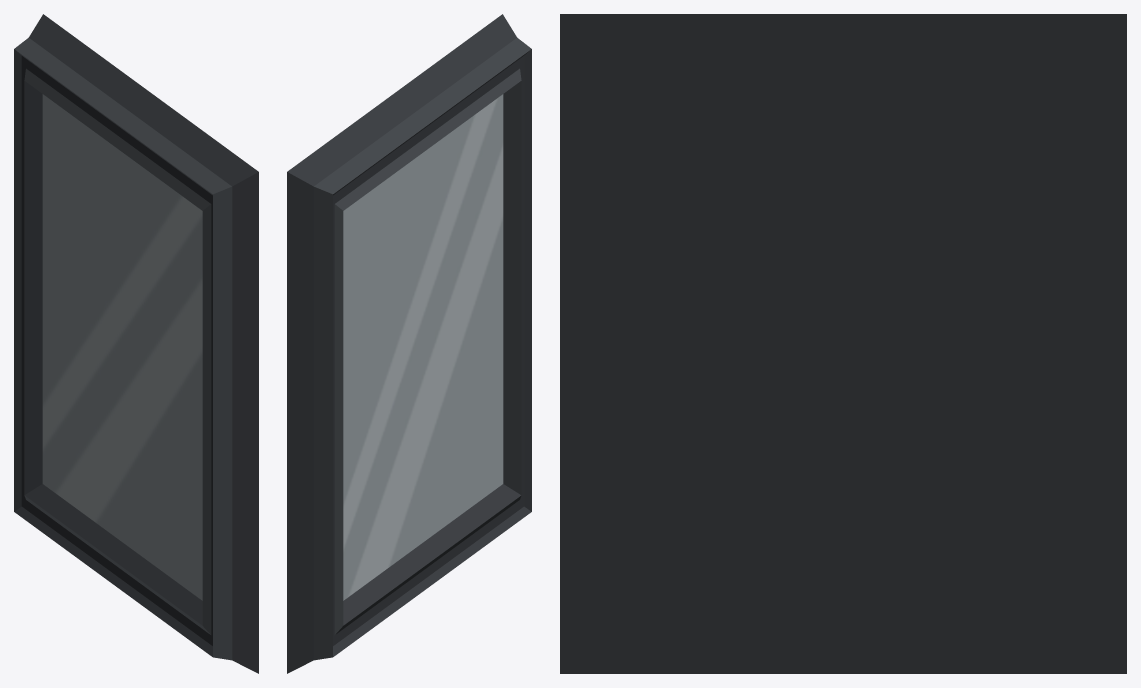
File: SM_Prop_Hotel_Mirror_01.obj
3 views of the same model, side by side, from view 1: azimuth 30°, elevation 25°; view 2: azimuth 150°, elevation 25°; view 3: azimuth 270°, elevation 25° (orthographic). The views are drawn at different scales.
Visible parts, largest first — view 1: SM_Prop_Hotel_Mirror_01_0; view 2: SM_Prop_Hotel_Mirror_01_0; view 3: SM_Prop_Hotel_Mirror_01_0.
Boxes of the visible parts, x1,y1,x2,y2 form: SM_Prop_Hotel_Mirror_01_0: (14,14,258,673); SM_Prop_Hotel_Mirror_01_0: (287,14,531,673); SM_Prop_Hotel_Mirror_01_0: (560,14,1126,673).
Bounding box in the file's own units: 0.116 × 1.48 × 1.15.
1 material, 1 textured.
